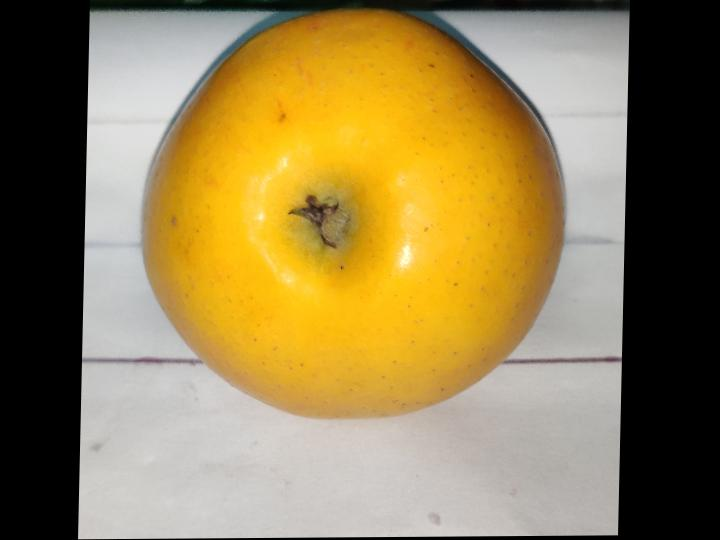apple: (143, 9, 563, 417)
